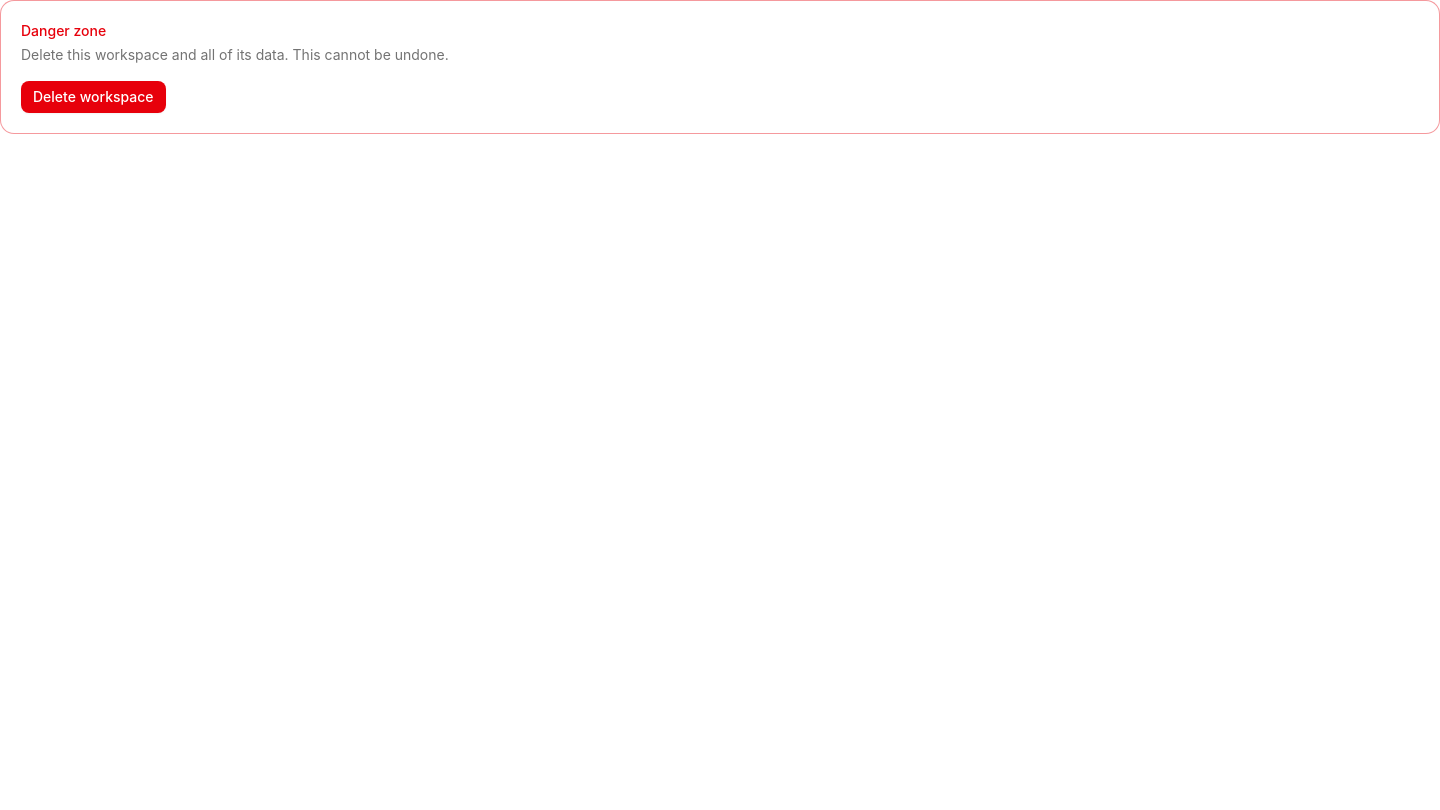
Test: DeleteOrganizationDialog › describes the confirmation input with its hint
Click the button "Delete workspace" at (93, 97), box [21,81,166,113]
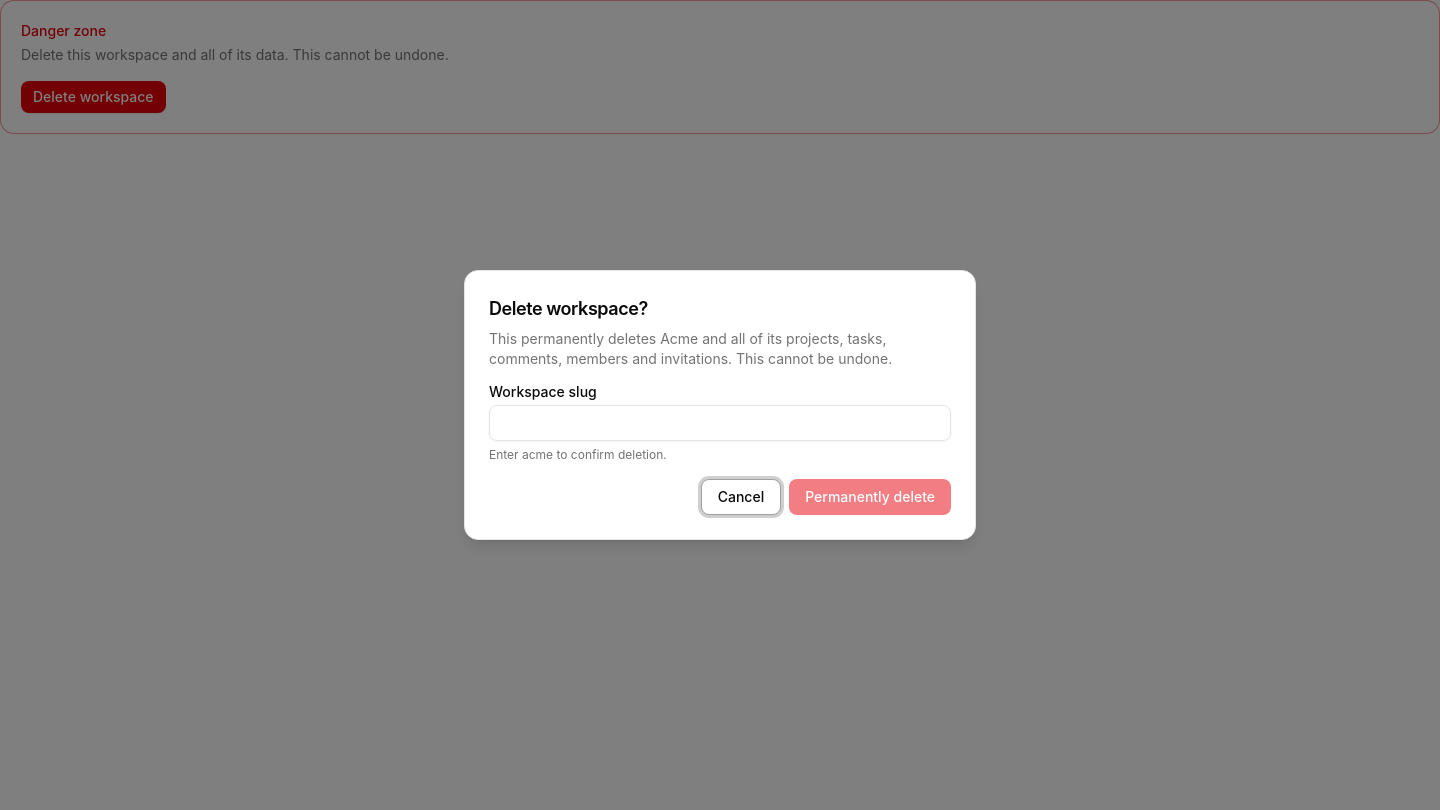
Now the text with id "delete-organization-confirmationSlug-description" reads "Enter acme to confirm deletion.", box [489,447,667,462]
